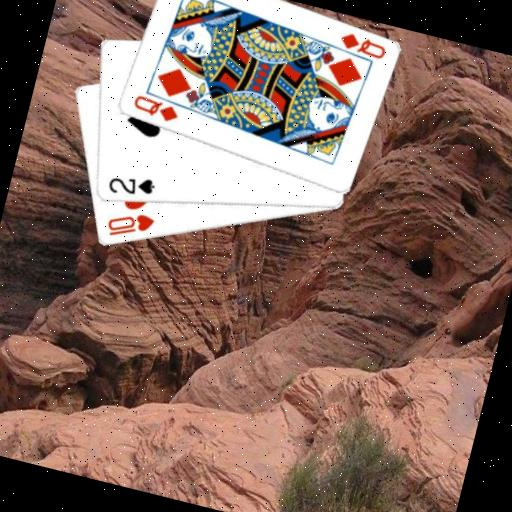10H: (101, 204, 157, 248)
2S: (104, 167, 159, 205)
QD: (128, 90, 183, 126), (334, 27, 390, 62)
